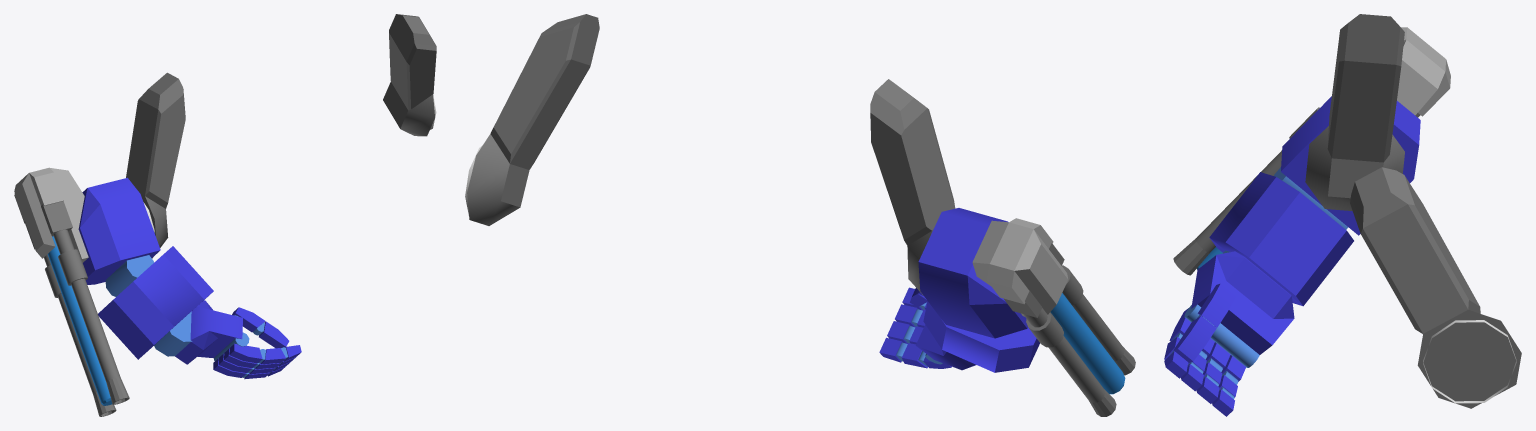
The model's file is Mech_blue_arms.fbx.
3 views of the same model, side by side, from view 1: azimuth 30°, elevation 25°; view 2: azimuth 150°, elevation 25°; view 3: azimuth 270°, elevation 25° (orthographic). The views are drawn at different scales.
Parts seen in each view (by area): view 1: Ra2.001, Ra3.001, Ra1.001, Ra05.001, La1.001; view 2: Ra2.001, La1.001, Ra1.001, Ra3.001, Ra05.001; view 3: La1.001, Ra1.001, Ra05.001, Ra3.001, Ra2.001.
Boxes of the visible parts, left/top/right/bottom form: Ra2.001: left=14, top=167, right=160, bottom=416; Ra3.001: left=98, top=246, right=213, bottom=359; Ra1.001: left=126, top=72, right=185, bottom=258; Ra05.001: left=175, top=300, right=301, bottom=379; La1.001: left=383, top=14, right=436, bottom=136; Ra2.001: left=918, top=208, right=1135, bottom=416; La1.001: left=465, top=14, right=599, bottom=225; Ra1.001: left=870, top=79, right=955, bottom=295; Ra3.001: left=923, top=301, right=1039, bottom=372; Ra05.001: left=879, top=287, right=975, bottom=370; La1.001: left=1350, top=167, right=1521, bottom=408; Ra1.001: left=1305, top=14, right=1404, bottom=210; Ra05.001: left=1164, top=251, right=1294, bottom=416; Ra3.001: left=1209, top=172, right=1353, bottom=306; Ra2.001: left=1173, top=27, right=1450, bottom=275.
Size of the model in its own units: 1.61 by 1.01 by 0.872.
